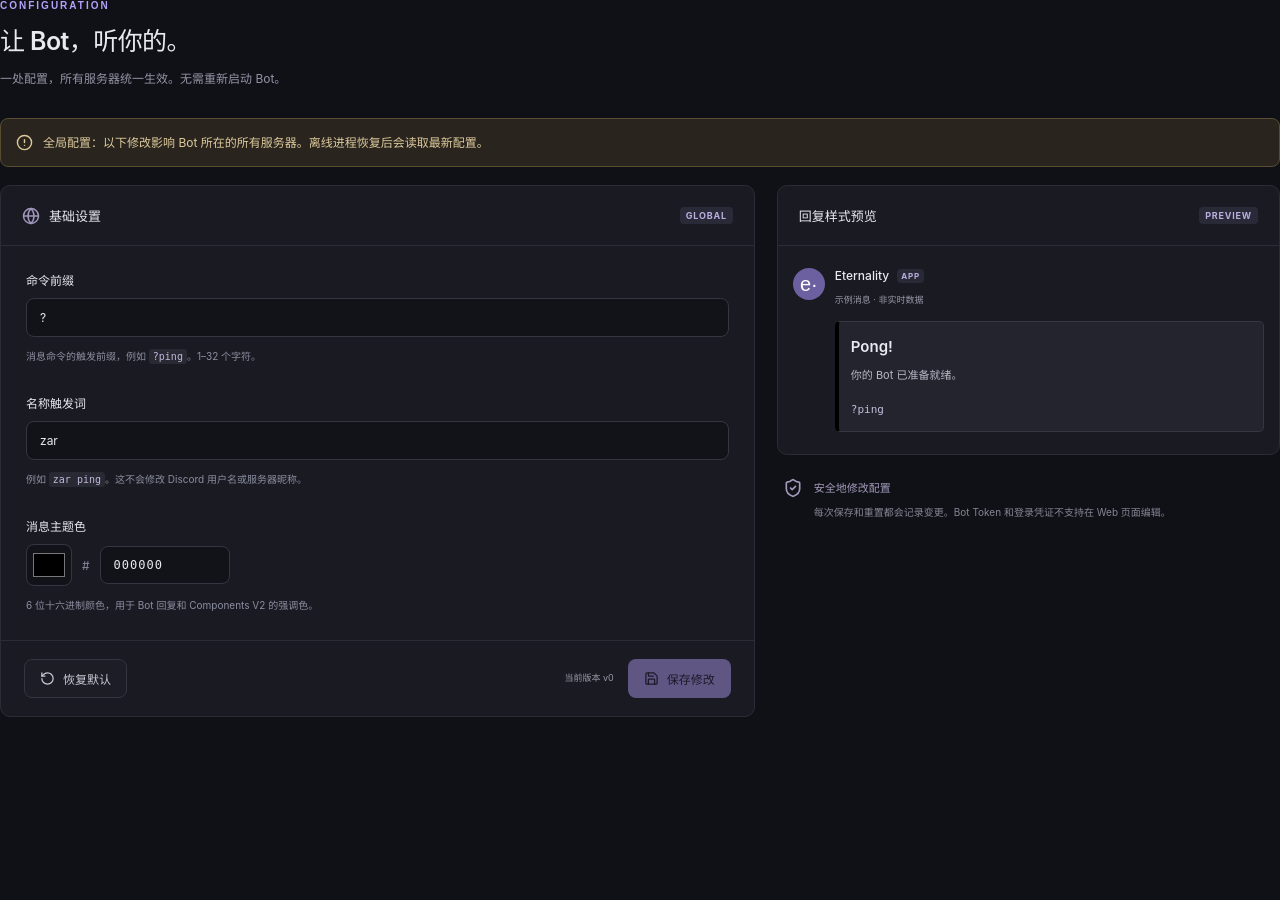
Scenario: owner console › confirms global impact and persists using the version and CSRF token
Type "!" into the field labelled "命令前缀" at x=377, y=318, box [26,298,729,337]
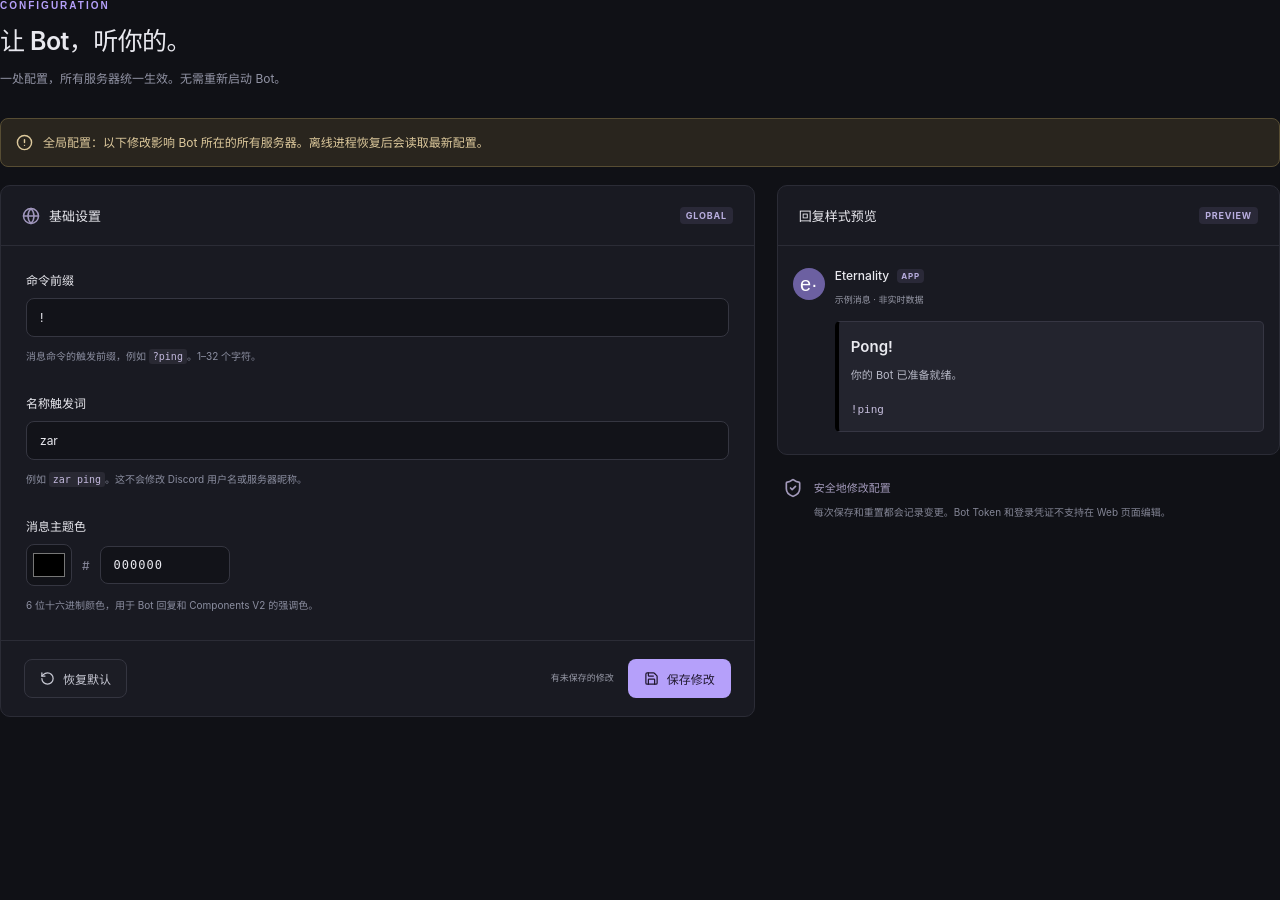
Click the button "保存修改" at x=679, y=679, box [628,659,731,698]
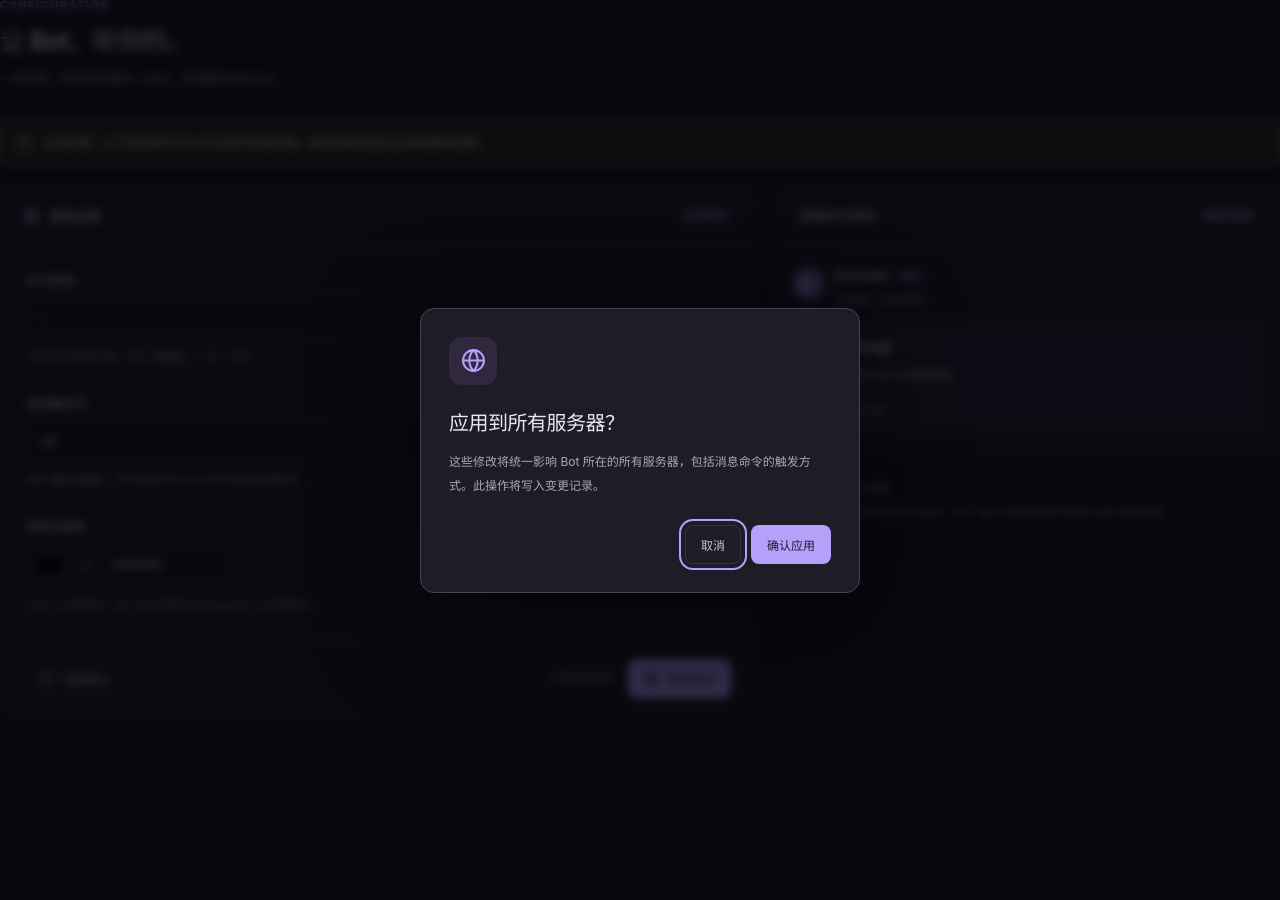
Expected: the dialog shows "应用到所有服务器", [449,410,624,434]
Click the button "确认应用" at x=791, y=544, box [751,524,831,564]
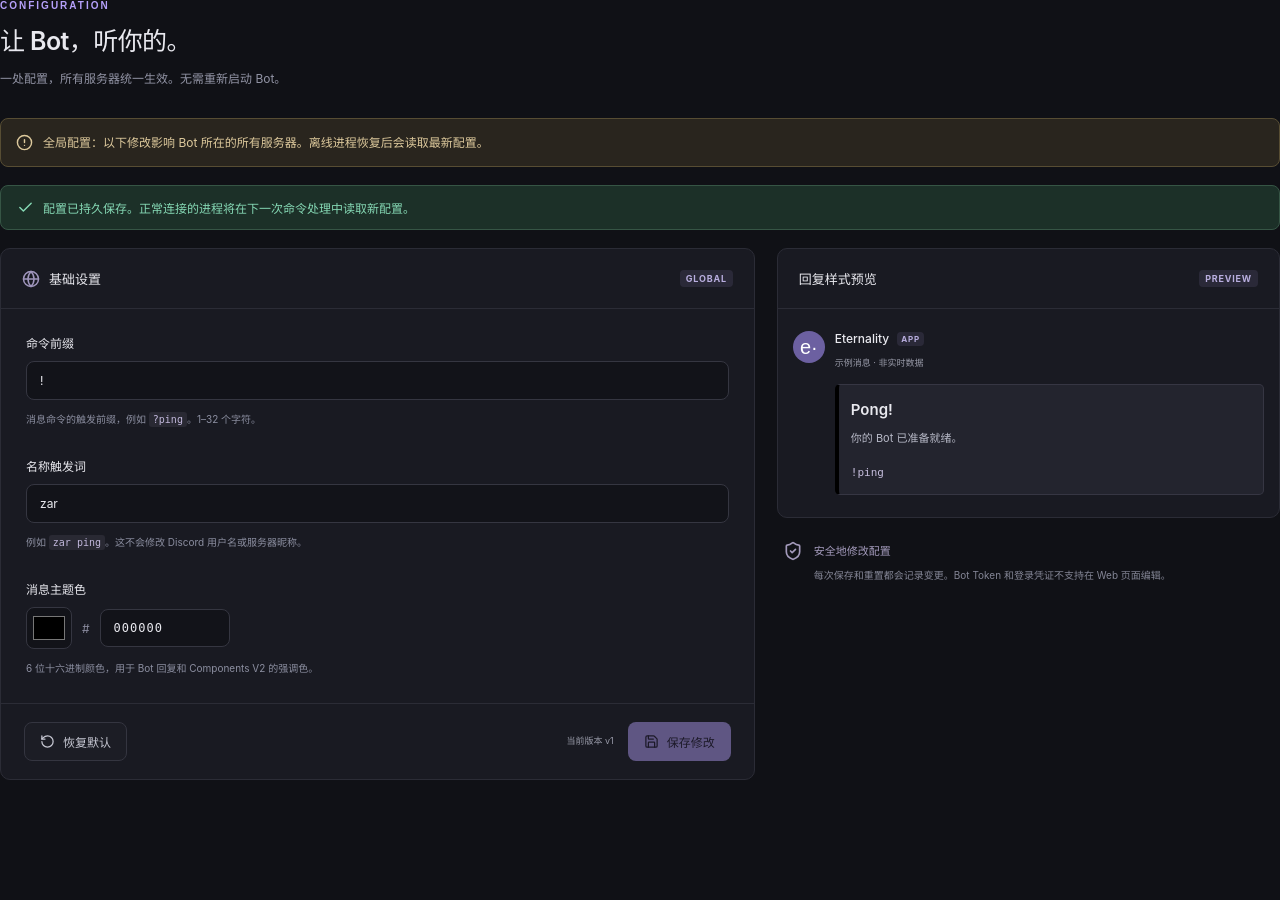
Expected: the text "配置已持久保存。正常连接的进程将在下一次命令处理中读取新配置。" is shown, [0,185,1279,230]
Expected: the button "保存修改" is disabled, [628,722,731,761]
